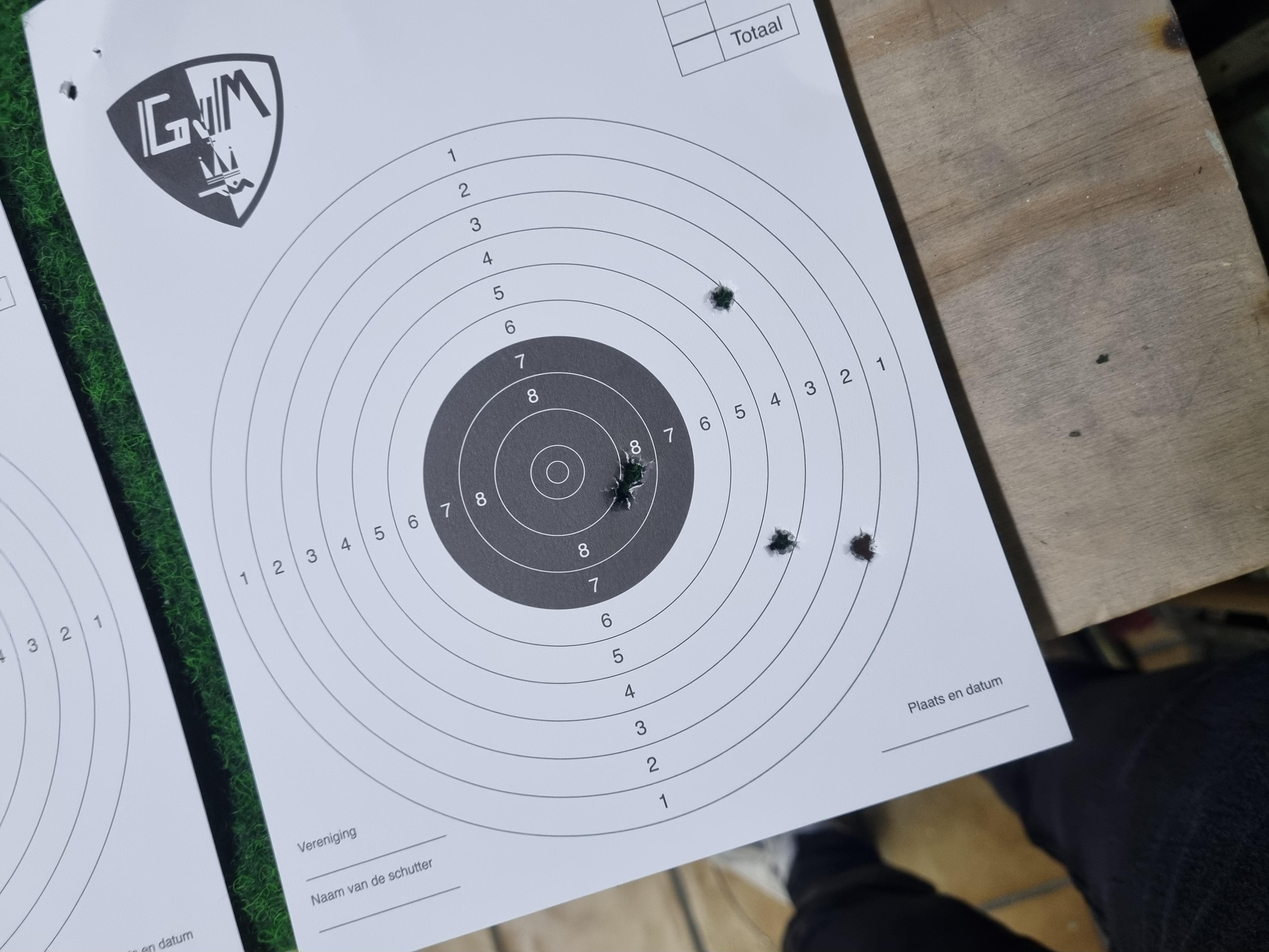hole: (589, 453, 632, 480), (622, 462, 668, 487), (527, 574, 567, 600), (520, 637, 566, 658), (854, 531, 895, 552)
